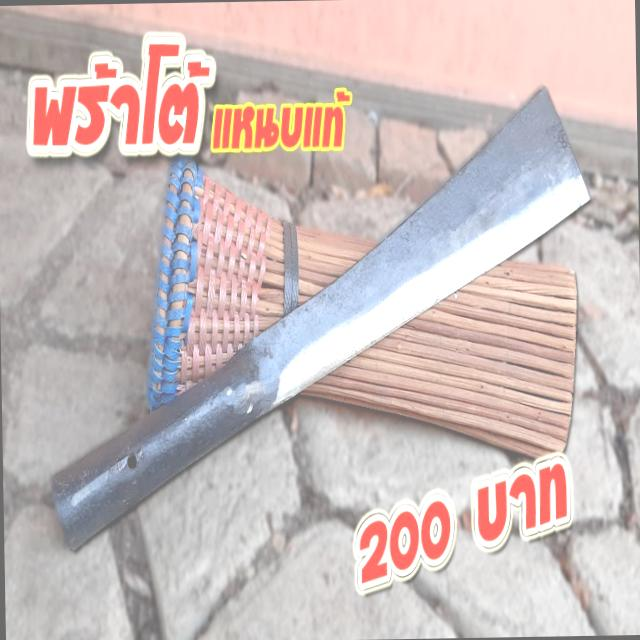eto: (37, 68, 605, 571)
